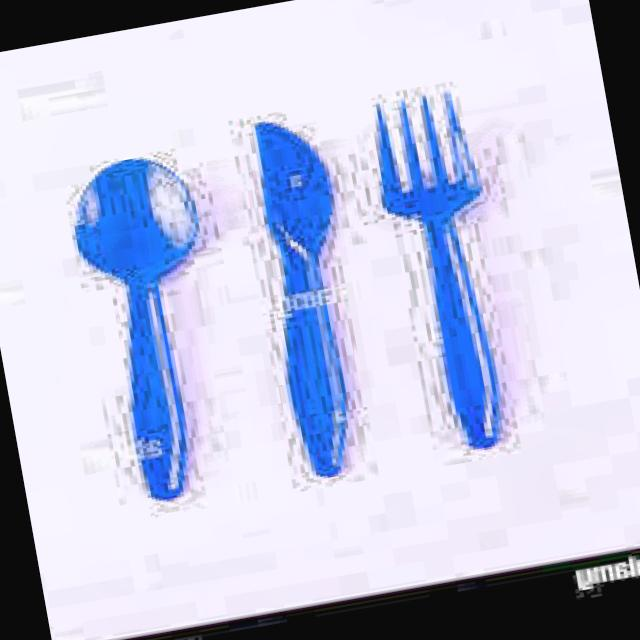plastic utensil: (379, 90, 500, 449), (74, 160, 197, 500), (256, 123, 347, 477)
